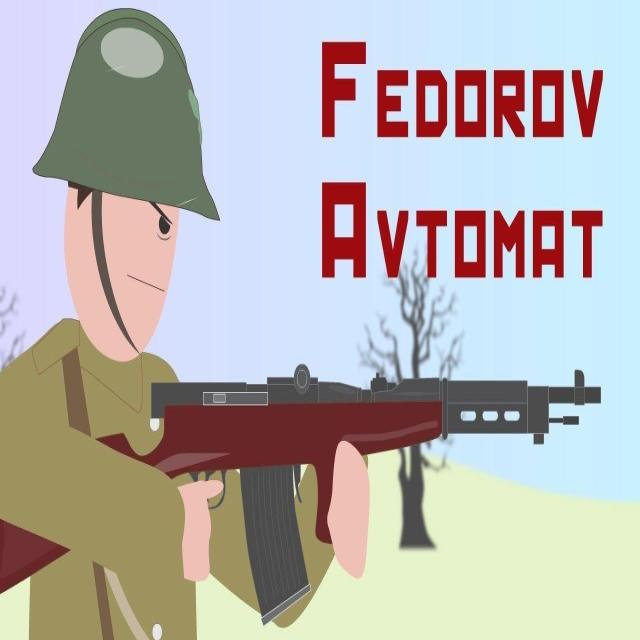weapon: (0, 371, 605, 640)
